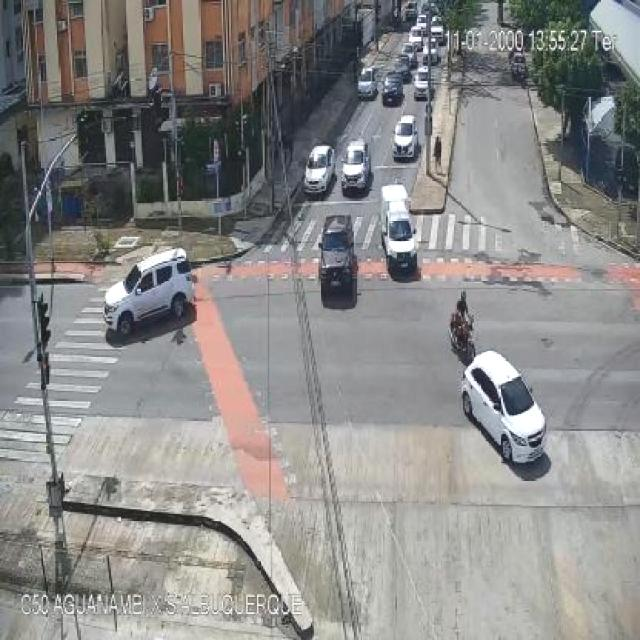Car: (461, 350, 548, 462), (103, 248, 193, 336), (318, 216, 358, 296), (303, 144, 336, 197), (341, 139, 370, 193), (392, 116, 418, 158), (381, 73, 404, 105), (357, 67, 378, 100), (413, 66, 432, 100), (420, 43, 440, 66), (400, 42, 417, 68), (408, 26, 425, 49), (511, 53, 527, 76), (402, 1, 418, 22), (422, 2, 439, 16)
Cycle: (448, 311, 477, 365)
Truck: (380, 186, 418, 276)
